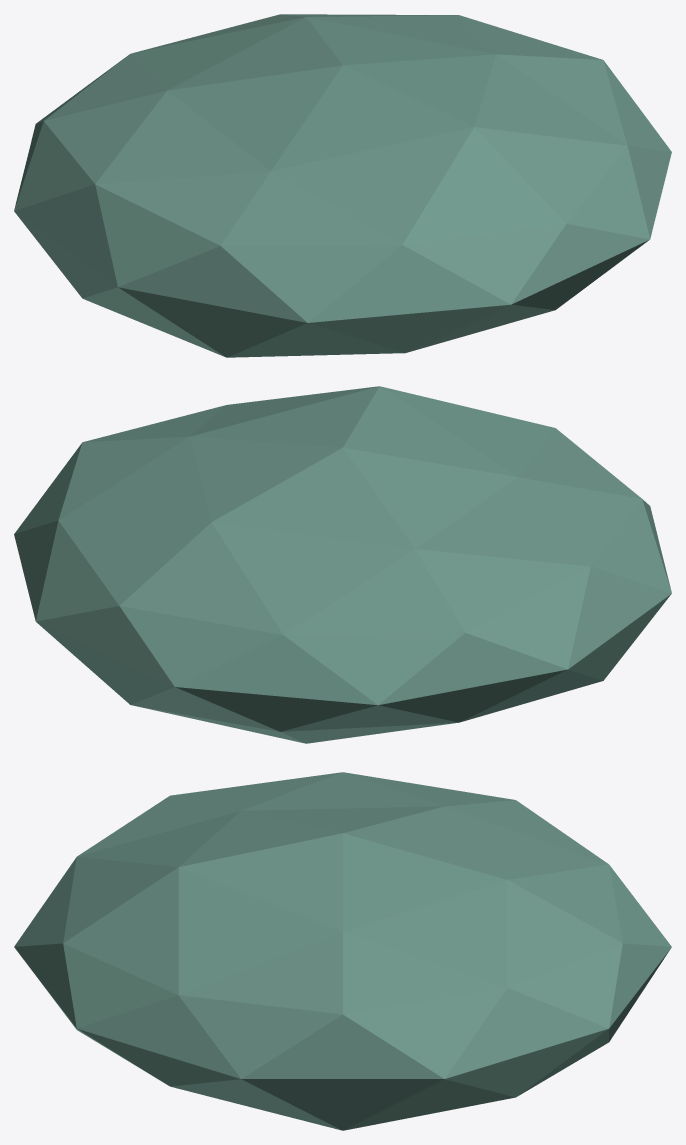
File: juniper.glb
3 views of the same model, one above another, from view 1: azimuth 30°, elevation 25°; view 2: azimuth 150°, elevation 25°; view 3: azimuth 270°, elevation 25° (orthographic). The views are drawn at different scales.
Visible parts, largest first — view 1: Shrub; view 2: Shrub; view 3: Shrub.
Boxes of the visible parts, x1,y1,x2,y2 form: Shrub: (14, 14, 671, 357); Shrub: (14, 386, 671, 743); Shrub: (14, 772, 671, 1130).
Bounding box in the file's own units: 1.33 × 0.5122 × 1.4.
